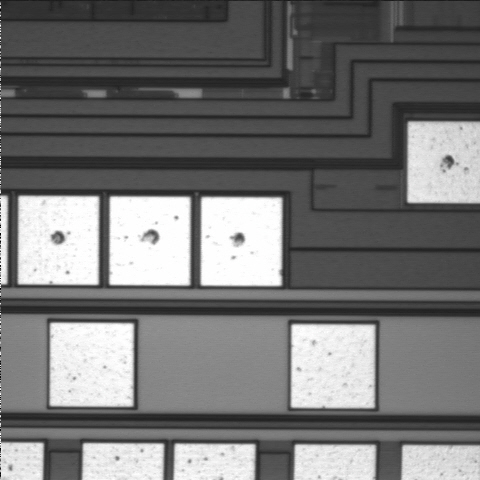pad: (109, 196, 191, 286), (18, 196, 99, 285), (201, 197, 282, 286), (50, 323, 134, 407), (291, 324, 375, 408)
